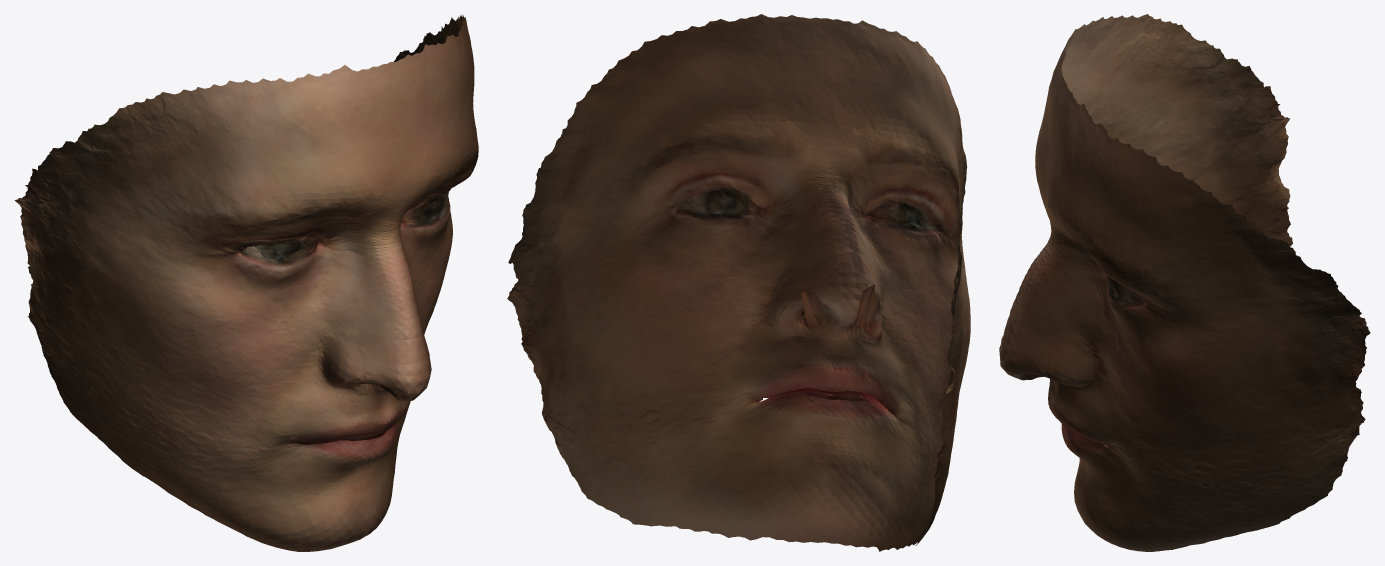
3 renders of one model, left to right at view 1: azimuth 30°, elevation 25°; view 2: azimuth 150°, elevation 25°; view 3: azimuth 270°, elevation 25°, orthographic. The views are drawn at different scales.
Bounding box in the file's own units: 1.46 × 1.71 × 1.22.
